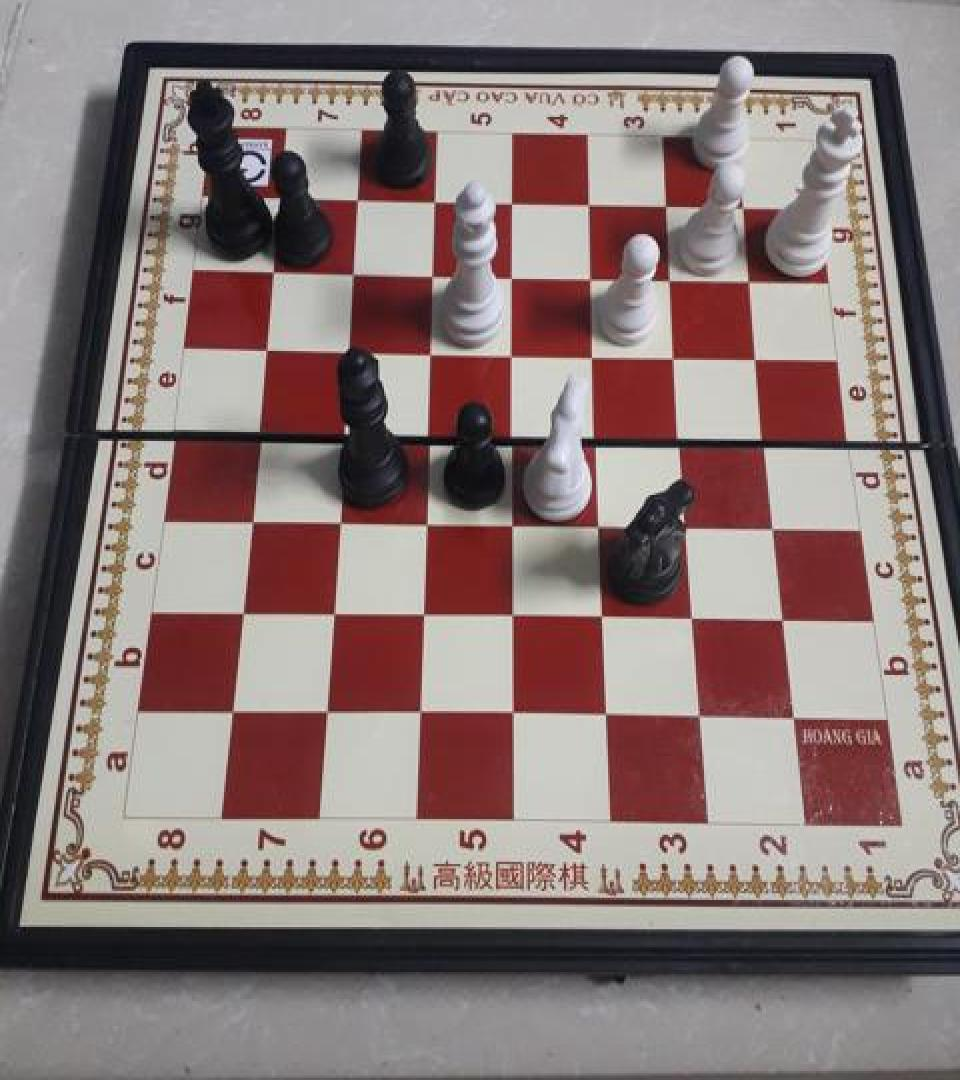xcorner: (683, 696, 715, 733), (777, 697, 809, 734), (216, 691, 248, 727), (310, 692, 342, 728), (403, 693, 435, 729), (497, 694, 529, 730), (590, 695, 622, 731), (225, 592, 257, 628), (316, 593, 348, 629), (406, 594, 438, 630), (496, 595, 528, 631), (587, 596, 619, 632), (677, 598, 709, 634), (767, 598, 799, 634), (233, 500, 265, 536), (321, 500, 353, 536), (409, 502, 441, 538), (496, 503, 528, 539), (583, 504, 615, 540), (671, 504, 703, 540), (758, 505, 790, 541), (241, 412, 273, 448), (326, 413, 358, 449), (411, 414, 443, 450), (496, 415, 528, 451), (581, 416, 613, 452), (665, 418, 697, 454), (750, 418, 782, 454), (249, 331, 281, 367), (331, 332, 363, 368), (413, 333, 445, 369), (496, 333, 528, 369), (578, 334, 610, 370), (660, 335, 692, 371), (742, 336, 774, 372), (256, 253, 288, 289), (335, 254, 367, 290), (415, 256, 447, 292), (495, 256, 527, 292), (575, 258, 607, 294), (655, 259, 687, 295), (735, 260, 767, 296), (262, 180, 294, 216), (340, 181, 372, 217), (417, 182, 449, 218), (495, 184, 527, 220), (573, 184, 605, 220), (728, 187, 760, 223), (650, 186, 682, 221)
